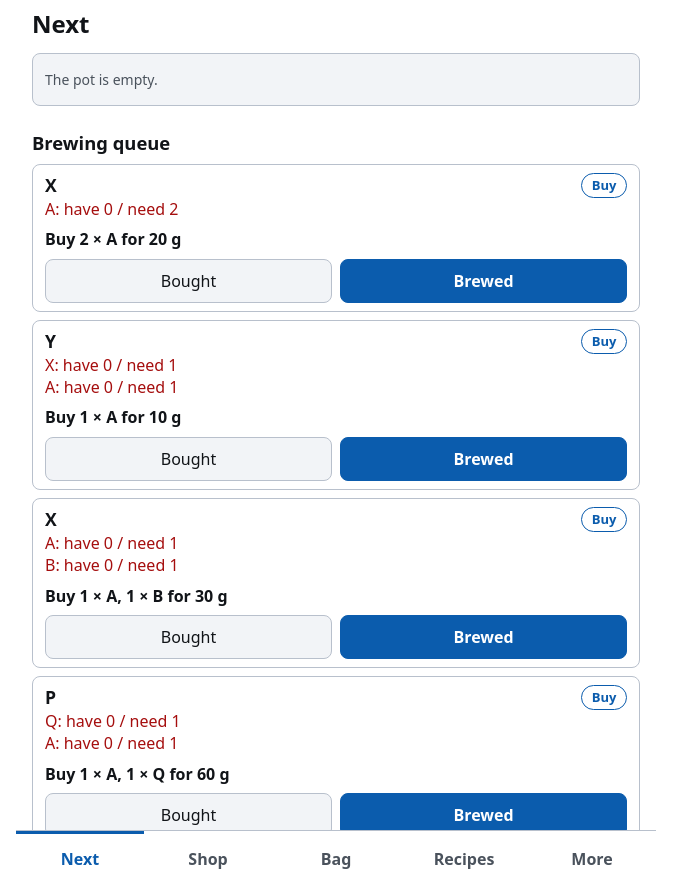
Test: Bag › shows equipped items read-only
Click the button "Bag": click(336, 859) [272,831,400,886]
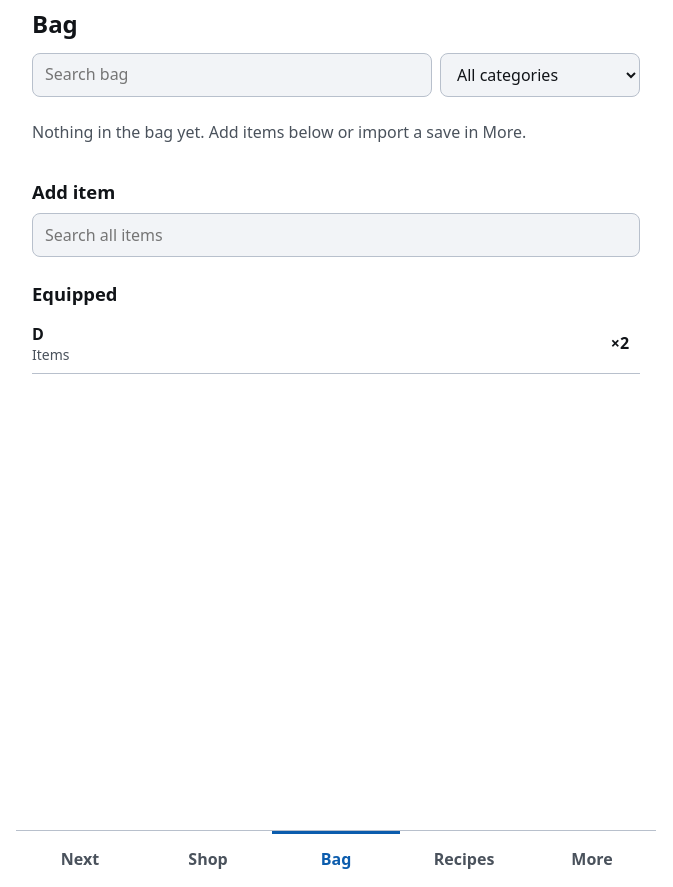
Expected: the text "D" is shown, [32,322,44,344]
Now no the button "Bought" are shown
